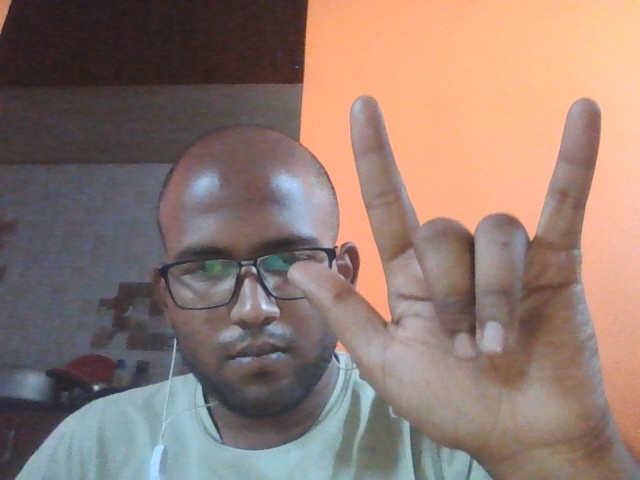iloveyou: (282, 62, 637, 478)
